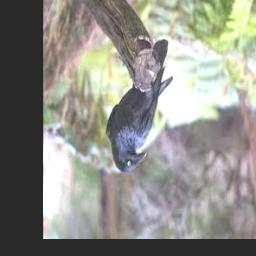Crow: (106, 67, 173, 173)
